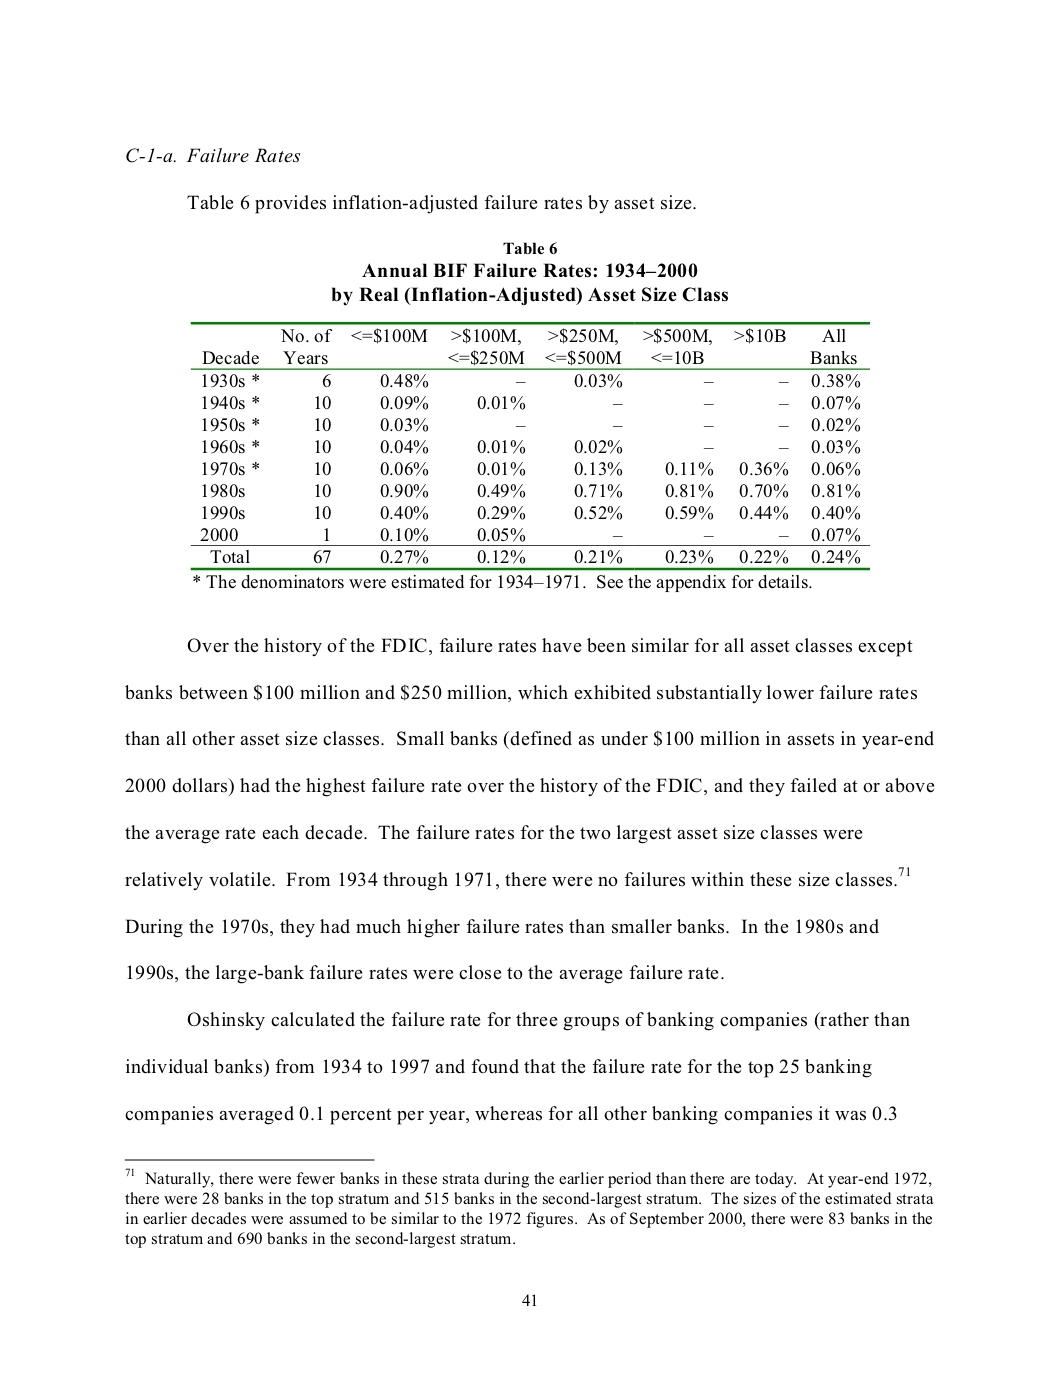Table: (189, 322, 870, 569)
